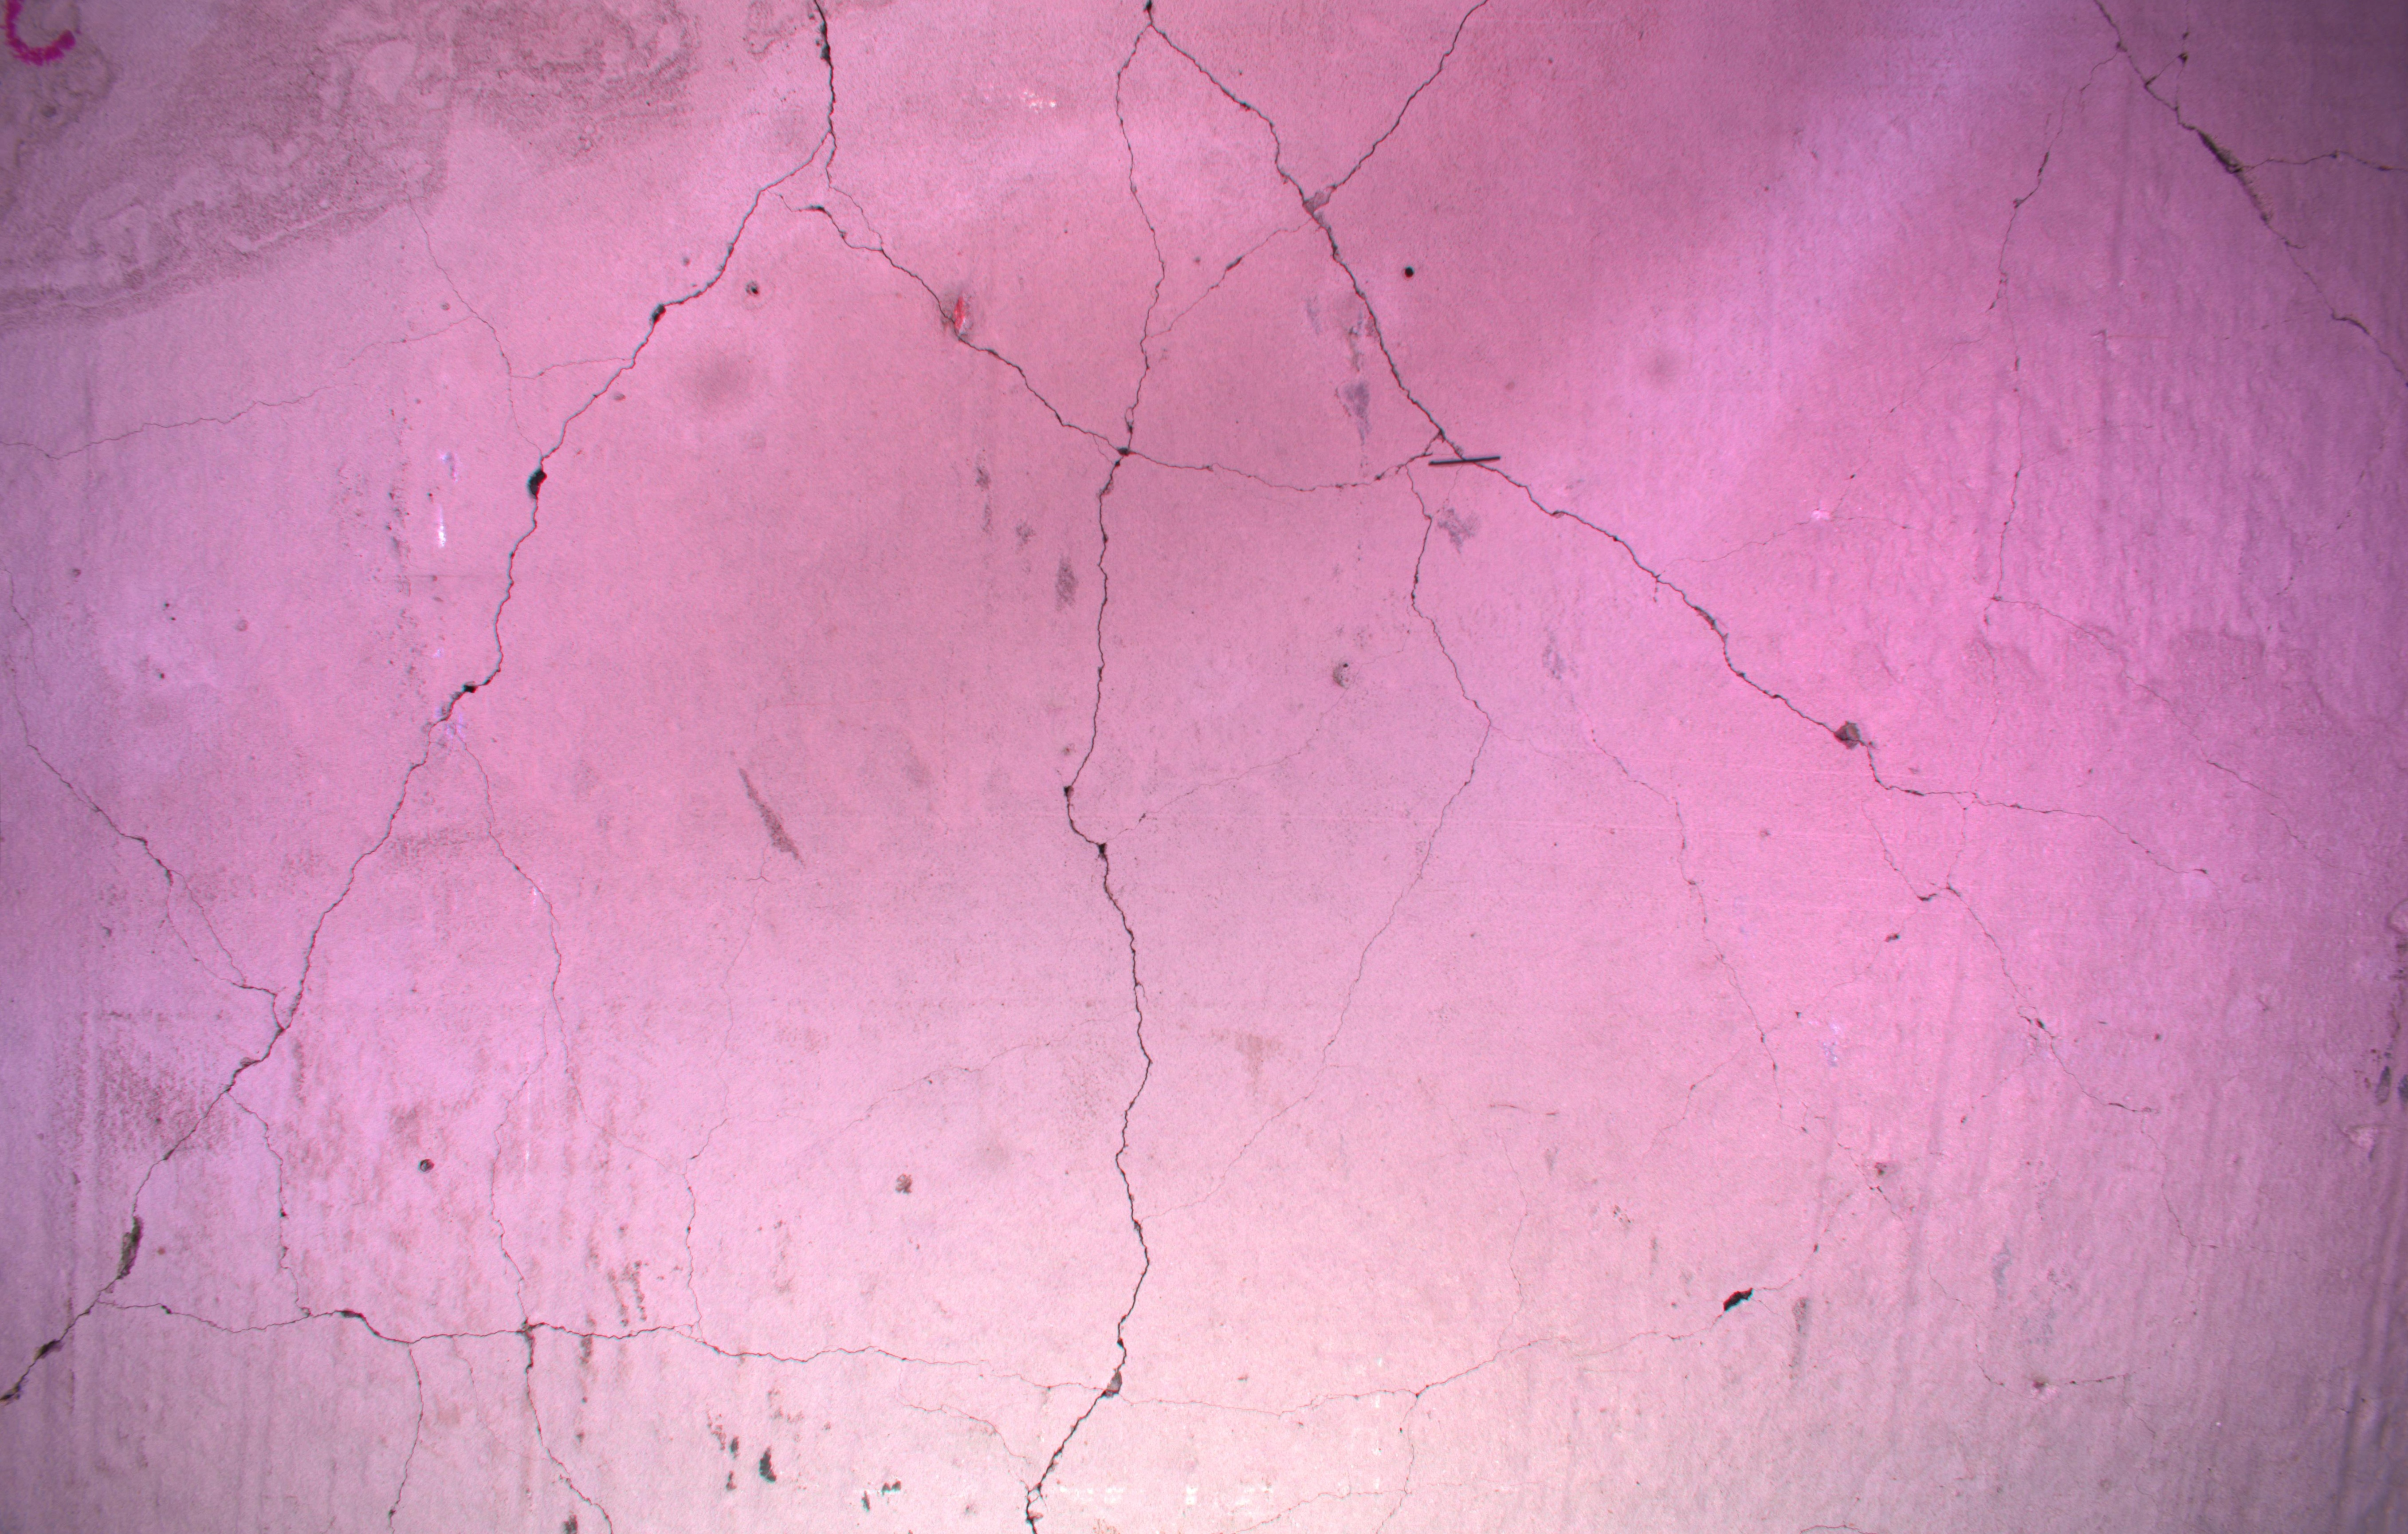Crack: (1439, 412, 2154, 930), (453, 0, 851, 669), (1190, 465, 1501, 1227), (93, 1280, 1408, 1450), (1016, 430, 1183, 1534), (1129, 0, 1492, 469), (2090, 0, 2408, 432), (760, 114, 1148, 467), (1397, 1172, 1941, 1422), (1932, 25, 2122, 720), (0, 623, 309, 1041), (283, 61, 667, 376), (251, 628, 504, 1069), (1989, 576, 2366, 867), (1625, 792, 1843, 1232), (0, 291, 504, 481), (1929, 860, 2211, 1153), (426, 713, 553, 1301), (90, 993, 312, 1308), (1067, 0, 1192, 477), (1104, 411, 1501, 521), (1908, 1308, 2227, 1418), (490, 1306, 637, 1534), (1320, 1343, 1462, 1534), (332, 1315, 449, 1534), (0, 1262, 140, 1425), (655, 1067, 739, 1327)
